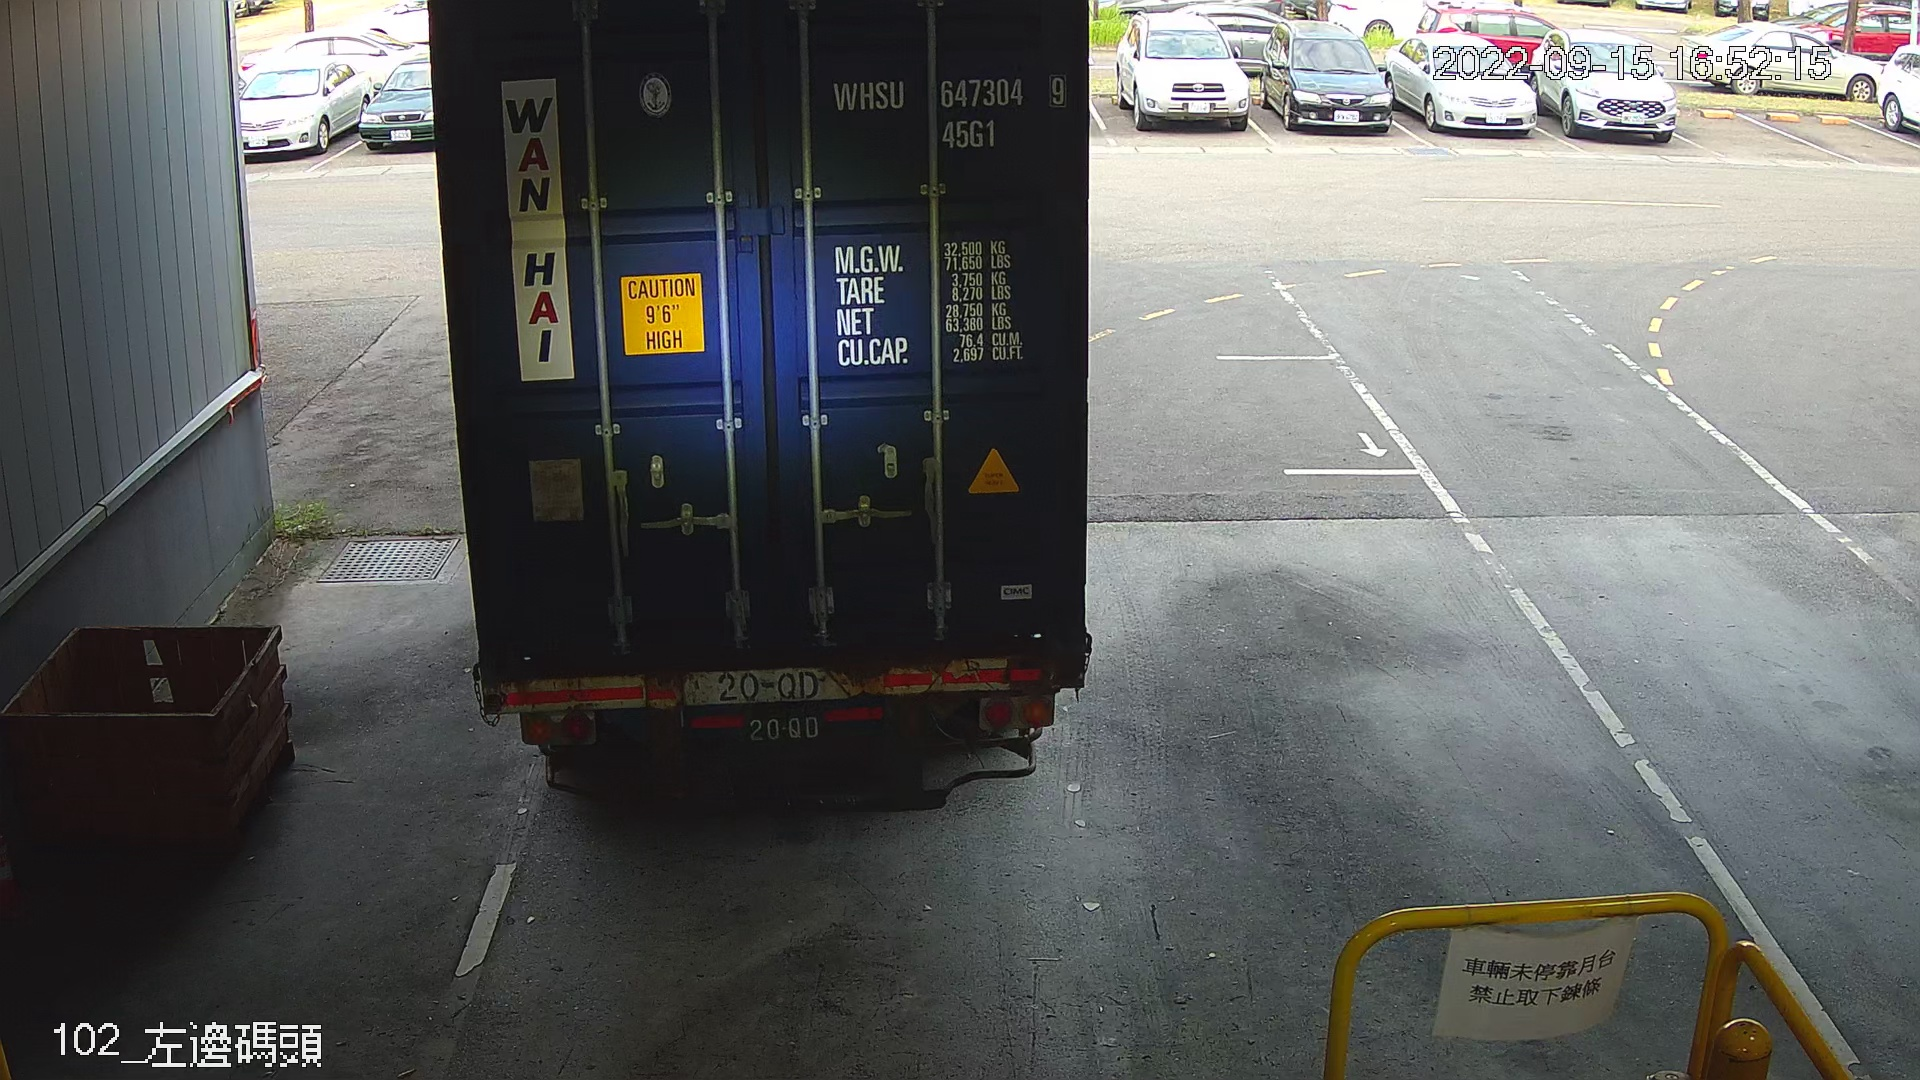container: (822, 65, 1077, 157)
